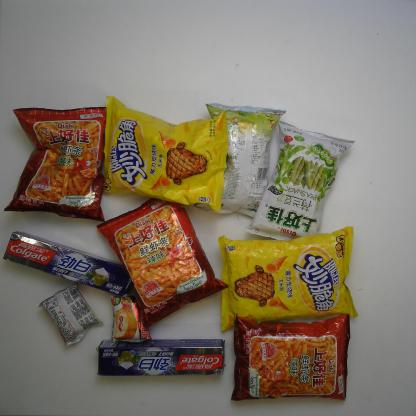Dessert: (37, 282, 104, 348), (107, 291, 153, 348)
Personal Hygiene: (2, 230, 133, 299), (95, 338, 228, 378)
Puffed Food: (95, 197, 229, 326), (101, 94, 230, 212), (217, 225, 359, 332), (244, 119, 356, 242), (1, 105, 107, 223), (191, 102, 289, 218), (230, 312, 352, 403)
